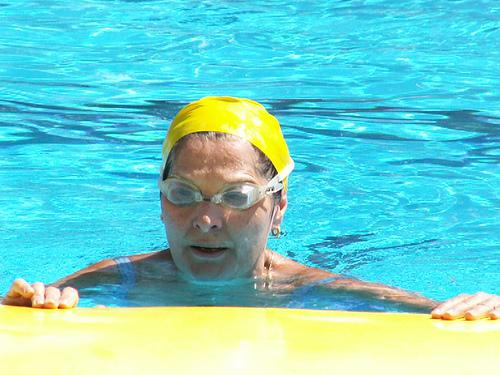swimmer: (8, 82, 313, 306)
